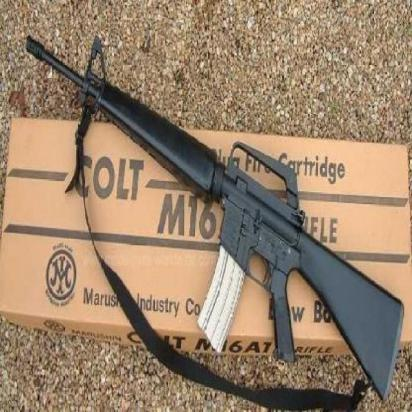Gun: (20, 22, 405, 394)
